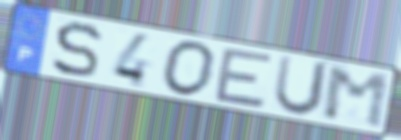4: (107, 30, 153, 90)
E: (211, 45, 276, 112)
M: (321, 65, 392, 132)
O: (160, 39, 220, 99)
S: (50, 20, 105, 80)
U: (270, 53, 333, 119)
